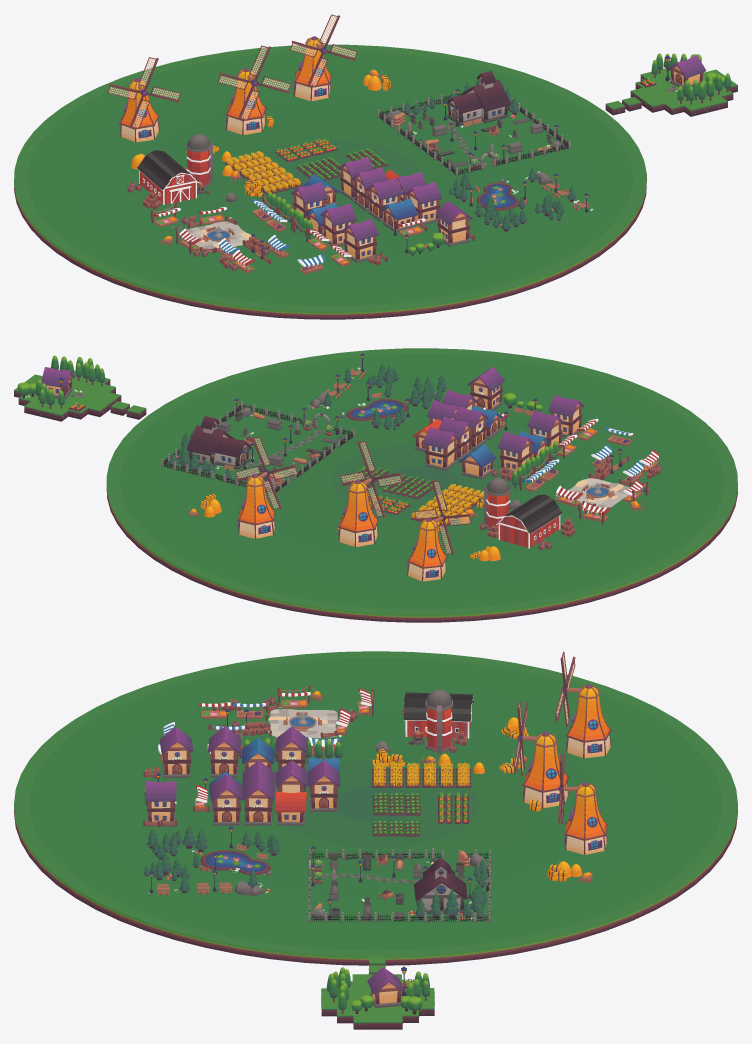
The model's file is field.glb.
3 renders of one model, top to bottom at view 1: azimuth 30°, elevation 25°; view 2: azimuth 150°, elevation 25°; view 3: azimuth 270°, elevation 25°, orthographic. The views are drawn at different scales.
Parts seen in each view (by area): view 1: World, Windmill.002, Windmill.001, Windmill.003, Barn.001, House_Purple.002, House_2Story_Purple.009, Sphere.002, House_2Story_Purple.001, House_2Story_Purple.002, House_2Story_Purple.008, House_2Story_Purple.004 (+7 smaller); view 2: World, Windmill.002, Windmill.003, Windmill.001, Barn.001, House_Purple.002, House_2Story_Purple.006, House_2Story_Purple.001, Sphere.002, House_2Story_Purple.007, House_2Story_Purple.009, Plane.001 (+7 smaller); view 3: World, Windmill.001, Windmill.002, Windmill.003, Barn.001, House_Purple.002, Sphere.002, House_2Story_Purple.009, House_2Story_Purple.002, House_2Story_Purple.003, House_2Story_Purple.006, House_2Story_Purple.008 (+8 smaller).
Part boxes in pixels (x1,y1,x2,y2): World: (14, 44, 646, 319); Windmill.002: (217, 45, 291, 135); Windmill.001: (107, 57, 181, 142); Windmill.003: (289, 14, 358, 101); Barn.001: (137, 150, 199, 204); House_Purple.002: (447, 70, 510, 125); House_2Story_Purple.009: (342, 218, 379, 262); Sphere.002: (186, 134, 212, 188); House_2Story_Purple.001: (435, 200, 472, 246); House_2Story_Purple.002: (405, 182, 442, 224); House_2Story_Purple.008: (320, 203, 356, 246); House_2Story_Purple.004: (366, 178, 403, 221); World: (106, 348, 737, 622); Windmill.002: (337, 441, 402, 547); Windmill.003: (235, 436, 298, 539); Windmill.001: (407, 480, 471, 581); Barn.001: (496, 494, 562, 548); House_Purple.002: (186, 416, 251, 469); House_2Story_Purple.006: (423, 427, 459, 470); House_2Story_Purple.001: (467, 367, 505, 410); Sphere.002: (484, 478, 511, 530); House_2Story_Purple.007: (497, 431, 534, 473); House_2Story_Purple.009: (548, 395, 584, 437); Plane.001: (568, 478, 629, 507); World: (14, 651, 737, 965); Windmill.001: (555, 651, 612, 758); Windmill.002: (514, 700, 569, 808); Windmill.003: (558, 753, 607, 855); Barn.001: (403, 692, 473, 738); House_Purple.002: (414, 858, 467, 913); Sphere.002: (425, 689, 453, 753); House_2Story_Purple.009: (159, 726, 193, 778); House_2Story_Purple.002: (210, 774, 242, 825); House_2Story_Purple.003: (242, 774, 275, 825); House_2Story_Purple.006: (307, 760, 340, 812); House_2Story_Purple.008: (208, 726, 241, 777).
Bounding box in the file's own units: 54.23 × 7.39 × 44.26.
Materials: 1 (1 with a texture image).
